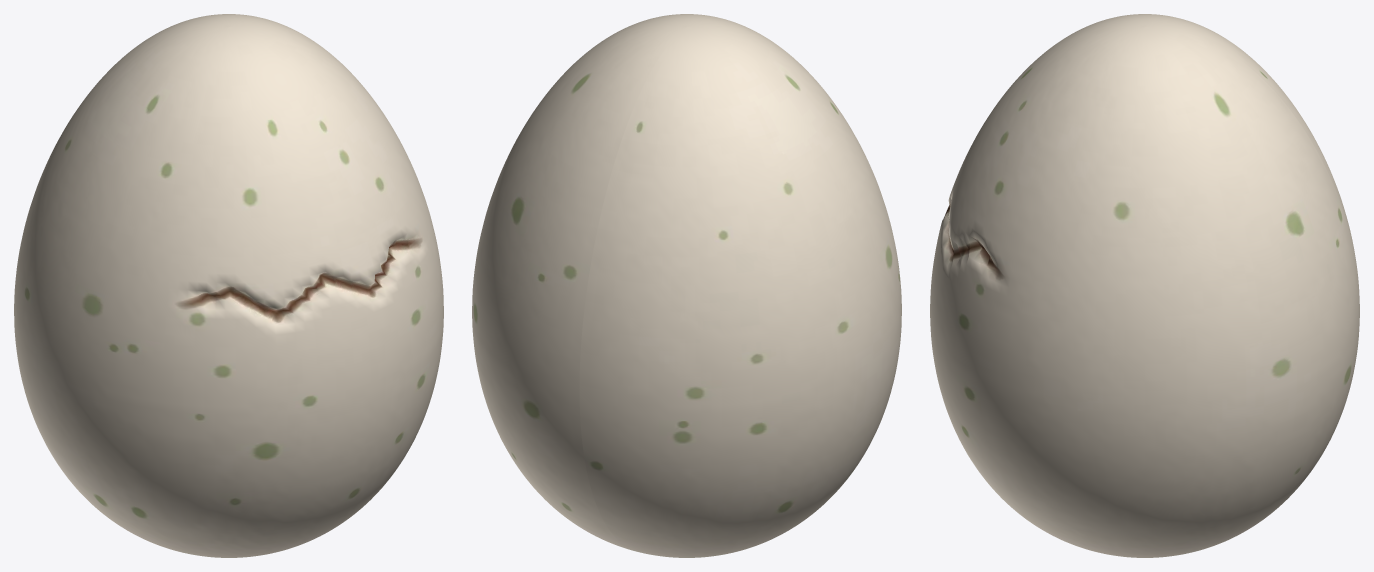
File: nog-egg.glb
3 views of the same model, side by side, from view 1: azimuth 30°, elevation 25°; view 2: azimuth 150°, elevation 25°; view 3: azimuth 270°, elevation 25° (orthographic).
Parts seen in each view (by area): view 1: egg_shell; view 2: egg_shell; view 3: egg_shell.
Boxes of the visible parts, bbox=[...] form: egg_shell: bbox=[14, 14, 443, 557]; egg_shell: bbox=[472, 14, 901, 557]; egg_shell: bbox=[930, 14, 1359, 557].
Size of the model in its own units: 0.7628 by 1 by 0.7628.
1 material, 1 textured.
